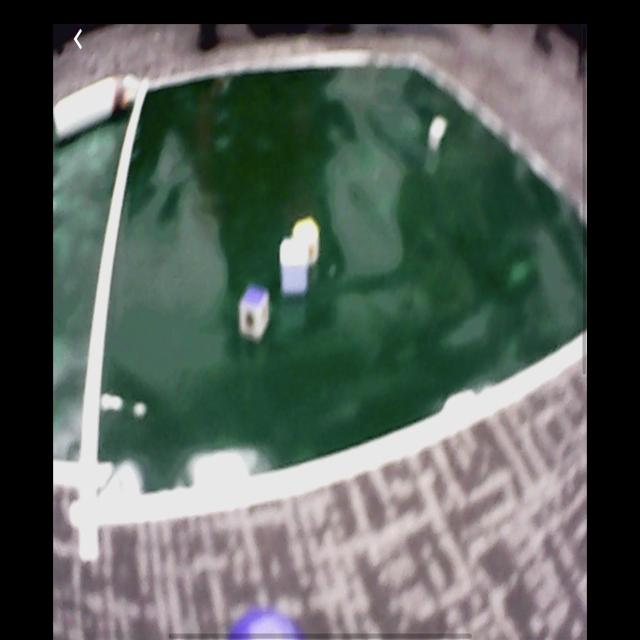ball: (228, 608, 304, 639)
